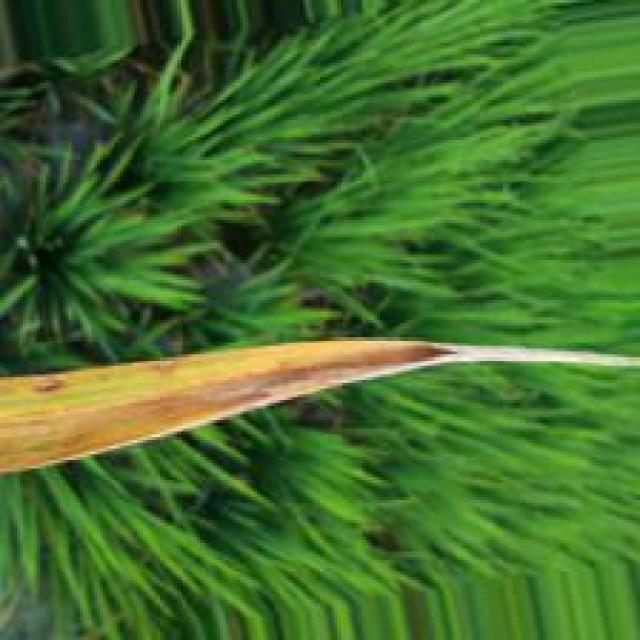Bacterial_Leaf_Blight: (1, 338, 453, 471)
